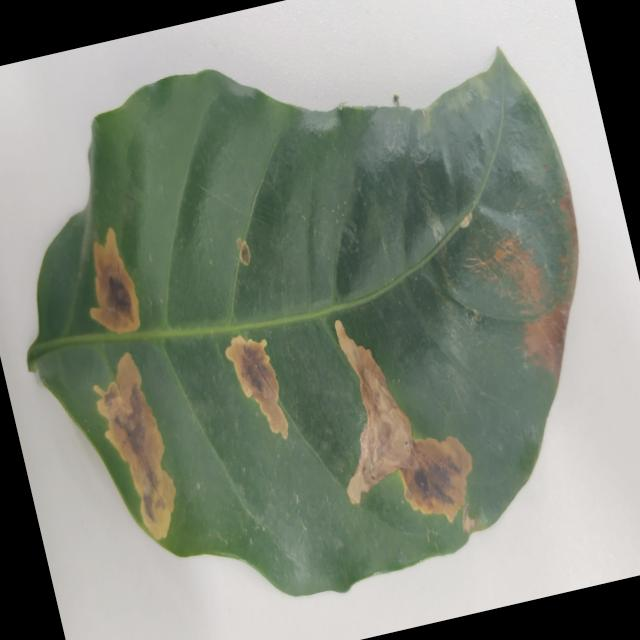KaratDaunKopi: (335, 320, 471, 521), (94, 352, 175, 539), (225, 335, 288, 439), (90, 228, 139, 332), (236, 237, 250, 265), (462, 504, 476, 532), (397, 548, 403, 562)
